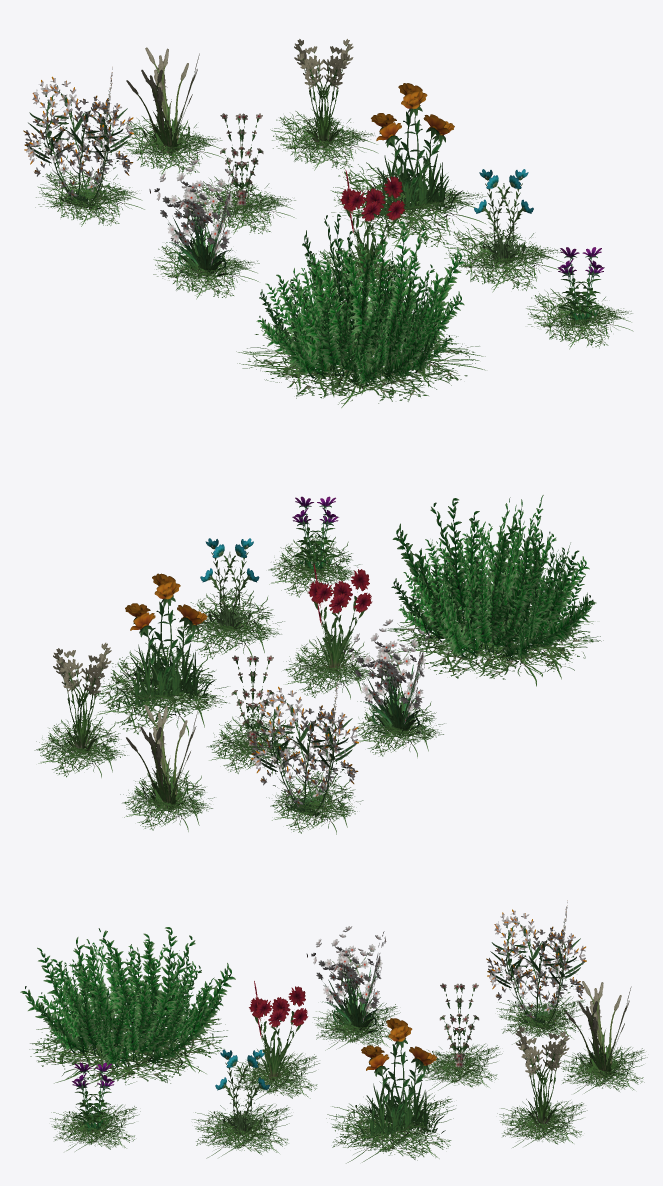
Rendered from flowers01.fbx.
3 renders of one model, top to bottom at view 1: azimuth 30°, elevation 25°; view 2: azimuth 150°, elevation 25°; view 3: azimuth 270°, elevation 25°, orthographic. The views are drawn at different scales.
Parts seen in each view (by area): view 1: Foliage_01, White_o_flower2, Orange_Rose, White_Flower, Blue_Flower, Grass_top_3, Grass_top, Monila_flower, White_o_flower, Red_Flower; view 2: Foliage_01, Orange_Rose, White_o_flower2, White_Flower, Red_Flower, Grass_top_3, Blue_Flower, Grass_top, Monila_flower, White_o_flower; view 3: Foliage_01, Orange_Rose, White_o_flower2, White_Flower, Grass_top_3, Red_Flower, Blue_Flower, Grass_top, Monila_flower, White_o_flower.
Boxes of the visible parts, x1,y1,x2,y2 form: Foliage_01: (236, 214, 485, 407); White_o_flower2: (23, 67, 144, 226); Orange_Rose: (330, 83, 486, 248); White_Flower: (149, 158, 259, 299); Blue_Flower: (443, 169, 563, 292); Grass_top_3: (270, 39, 378, 170); Grass_top: (117, 47, 223, 175); Monila_flower: (526, 247, 633, 349); White_o_flower: (195, 113, 295, 234); Red_Flower: (316, 169, 418, 296); Foliage_01: (387, 495, 603, 686); Orange_Rose: (96, 573, 229, 735); White_o_flower2: (250, 676, 363, 834); White_Flower: (343, 619, 444, 757); Red_Flower: (283, 563, 376, 699); Grass_top_3: (34, 642, 128, 777); Blue_Flower: (177, 538, 284, 659); Grass_top: (120, 705, 214, 831); Monila_flower: (268, 496, 360, 597); White_o_flower: (207, 655, 296, 774); Foliage_01: (20, 927, 235, 1086); Orange_Rose: (326, 1018, 456, 1163); White_o_flower2: (486, 900, 586, 1044); White_Flower: (306, 926, 400, 1050); Grass_top_3: (497, 1026, 587, 1147); Red_Flower: (230, 981, 319, 1101); Blue_Flower: (192, 1049, 292, 1158); Grass_top: (560, 981, 647, 1093); Monila_flower: (50, 1062, 140, 1151); White_o_flower: (414, 983, 502, 1090).
Size of the model in its own units: 378 by 152 by 630.
1 material, 1 textured.
